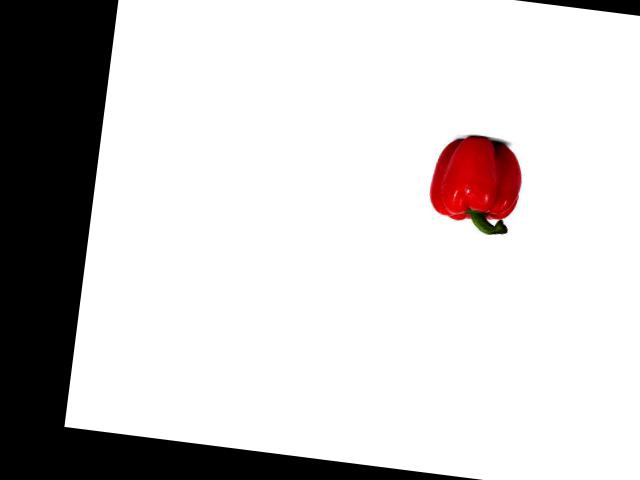bell_pepper: (420, 131, 528, 239)
